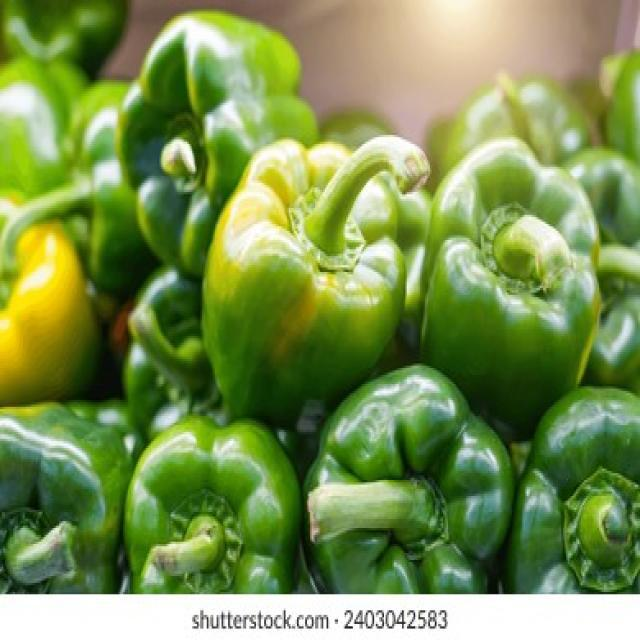Capsicum: (206, 131, 426, 427), (422, 142, 604, 436), (117, 10, 309, 280), (303, 364, 509, 592), (123, 415, 297, 591), (506, 383, 638, 590), (0, 402, 134, 590), (68, 401, 132, 437)
